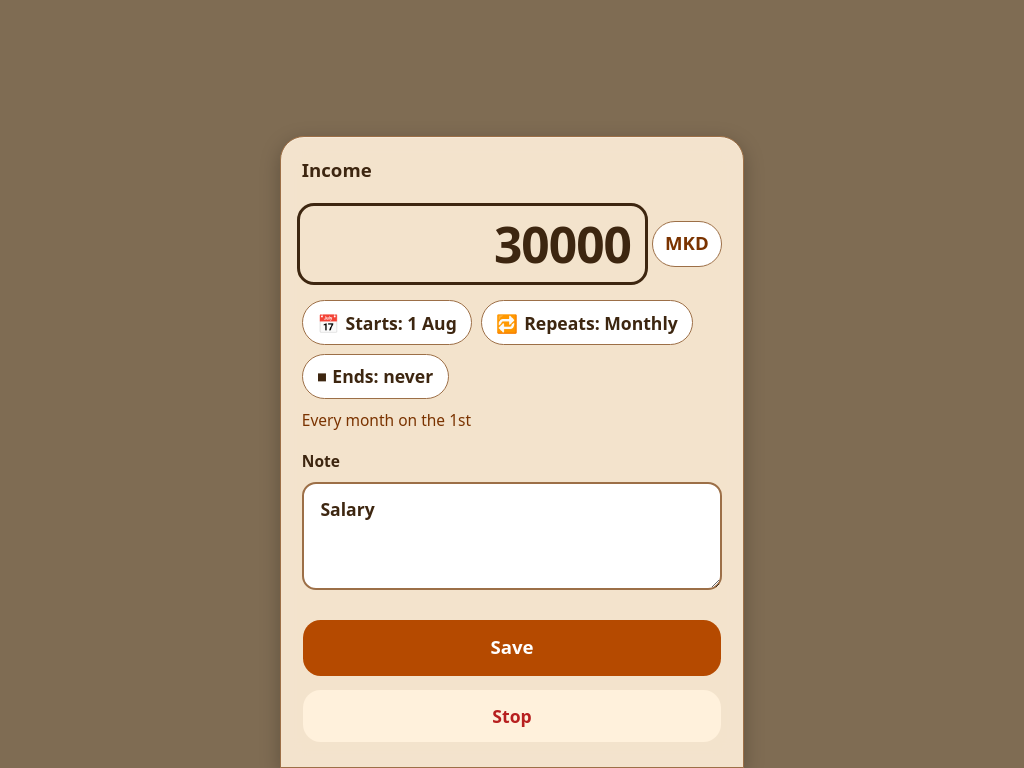
Test: PersonalIncomeSheet, editing a repeating income › opening › shows the hint of the new rhythm after the Repeats chip was tapped
Click the button "🔁 Repeats: Monthly". click: (587, 323)
box: [480,300,693,346]
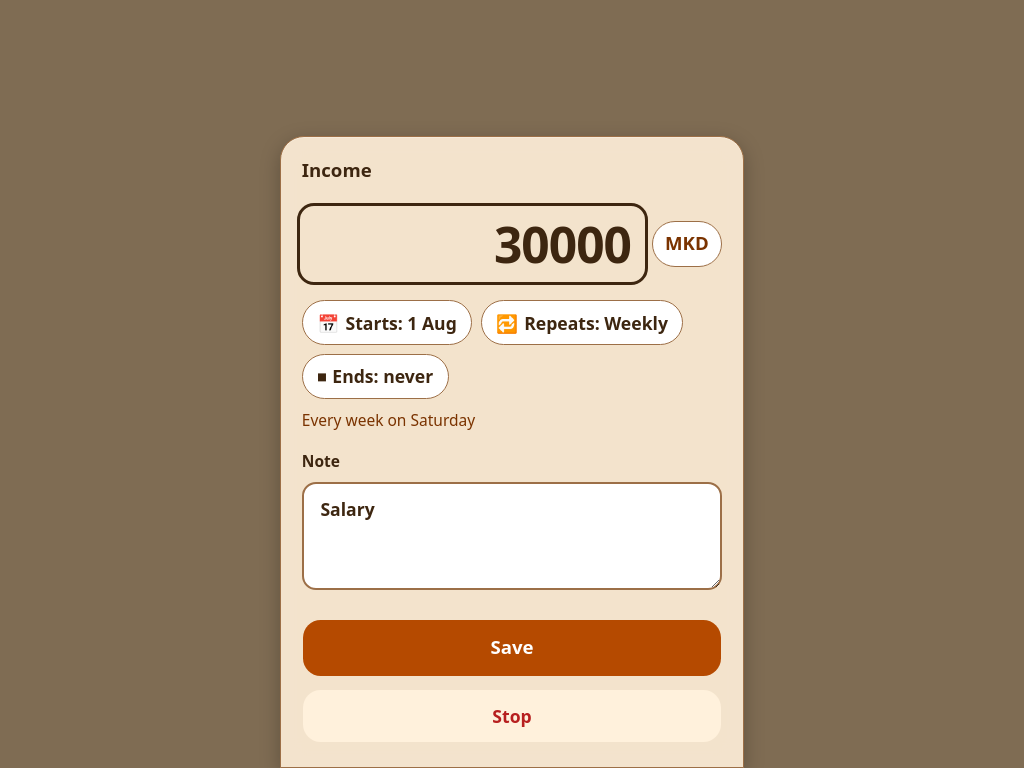
Check: the text "Every week on Saturday" is shown, box [302,409,475,431]
Check: the text "Every month on the 1st" is gone
